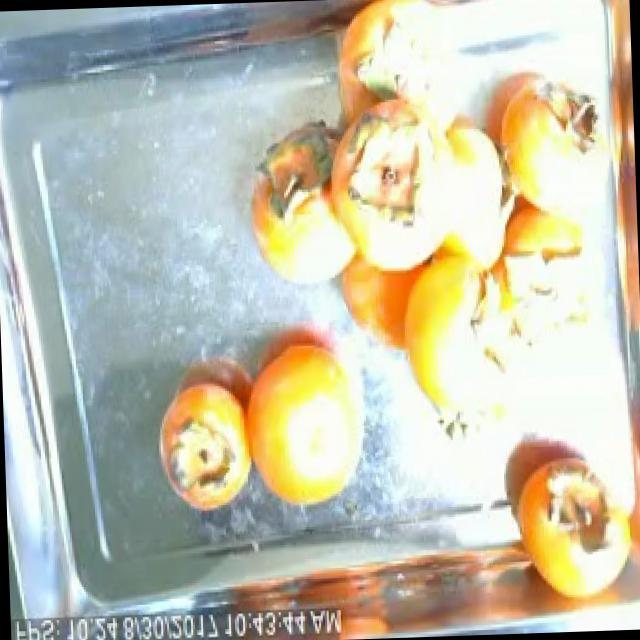Fruit: (148, 366, 261, 524)
